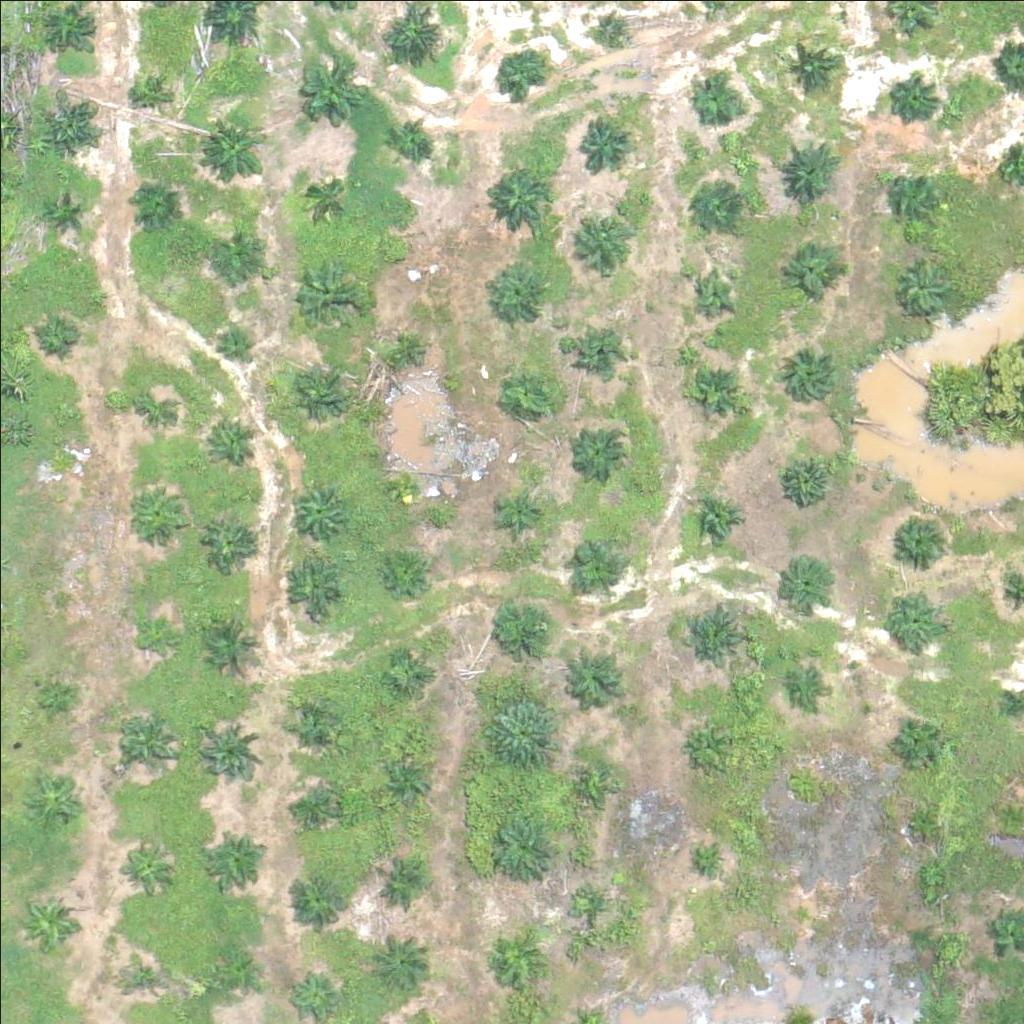Kelapa_Sawit: (487, 809, 562, 885), (483, 591, 558, 667), (288, 265, 363, 341), (483, 695, 558, 771), (40, 99, 103, 162), (303, 58, 366, 121), (566, 649, 629, 712), (24, 767, 87, 830), (281, 553, 344, 616), (778, 135, 841, 198), (681, 603, 744, 666), (365, 929, 428, 992), (17, 890, 80, 953), (286, 860, 349, 923), (203, 822, 265, 885), (205, 117, 267, 180), (488, 169, 550, 232), (570, 206, 632, 269), (290, 361, 352, 424), (202, 609, 264, 672), (115, 708, 177, 771), (199, 725, 261, 788), (491, 259, 553, 322), (888, 506, 950, 569), (684, 364, 746, 427), (884, 588, 946, 651), (385, 4, 447, 67), (285, 475, 347, 537), (121, 841, 171, 892), (693, 80, 743, 131), (689, 179, 739, 230), (791, 242, 841, 293), (780, 556, 830, 607), (897, 257, 947, 308), (886, 174, 936, 225), (886, 76, 936, 127), (786, 37, 836, 88), (783, 455, 833, 506), (692, 491, 742, 542), (890, 719, 940, 770), (117, 947, 167, 998), (205, 949, 255, 1000), (287, 972, 337, 1023), (578, 115, 628, 165), (497, 48, 547, 98), (571, 331, 621, 381), (568, 537, 618, 587), (572, 427, 622, 477), (382, 554, 432, 604), (383, 650, 433, 700), (201, 519, 251, 569), (131, 487, 181, 537), (218, 224, 268, 274), (505, 371, 555, 421), (786, 353, 836, 403), (490, 929, 540, 979), (48, 2, 98, 52), (132, 177, 182, 227), (301, 168, 351, 218), (386, 111, 436, 161), (378, 328, 428, 378), (289, 784, 339, 834), (287, 700, 337, 750), (381, 764, 431, 814), (376, 859, 426, 909), (206, 415, 256, 465), (502, 493, 540, 531), (789, 663, 827, 701), (128, 68, 166, 106), (215, 325, 253, 363), (138, 614, 176, 652), (40, 431, 78, 469), (134, 389, 172, 427), (685, 720, 722, 758), (50, 193, 87, 231), (35, 318, 73, 355), (696, 276, 733, 314), (901, 802, 938, 840), (36, 678, 73, 715), (575, 768, 600, 794), (597, 20, 622, 45), (577, 886, 602, 911), (694, 843, 719, 868), (394, 478, 419, 503), (387, 243, 412, 268), (788, 898, 813, 923)
